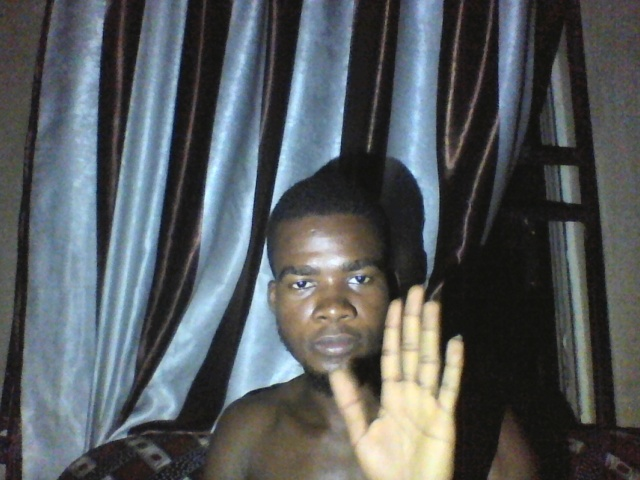hello: (336, 292, 480, 480)
